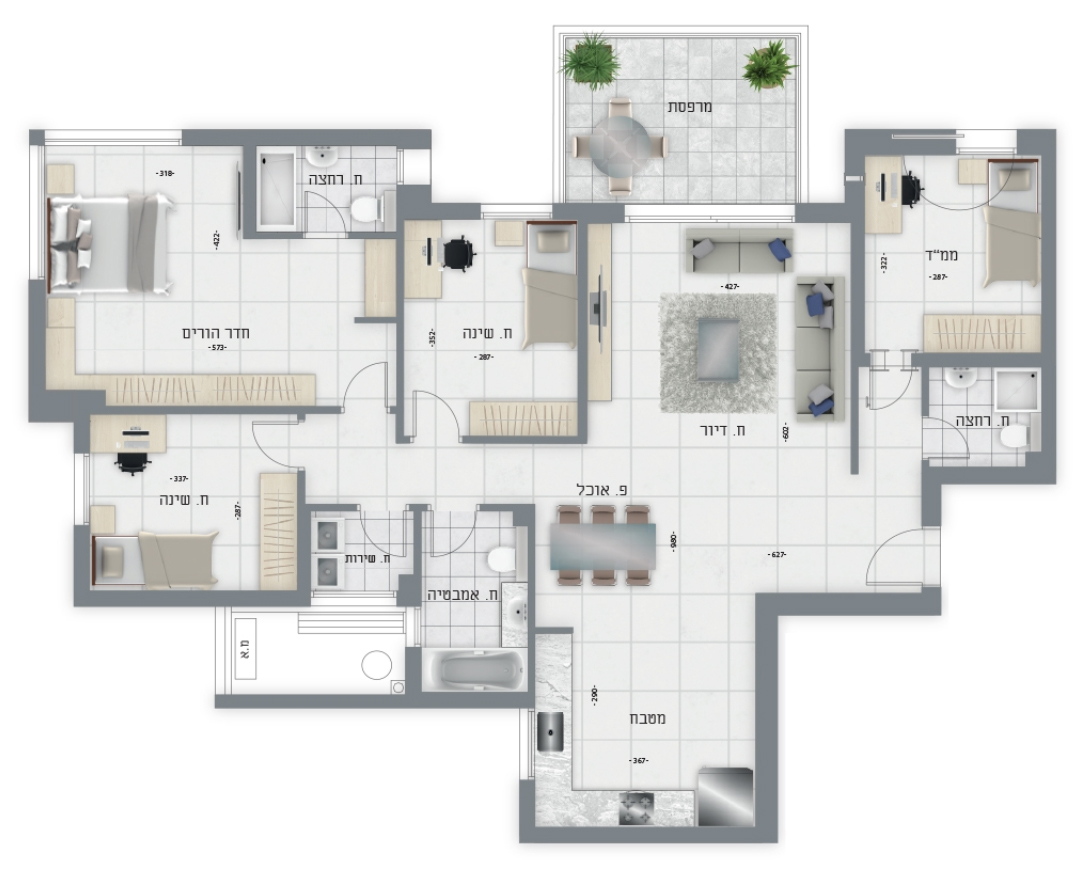door: (860, 527, 922, 589), (354, 513, 412, 562), (423, 515, 481, 564), (248, 417, 295, 474), (336, 359, 394, 405), (405, 387, 463, 433), (297, 186, 355, 232), (861, 370, 919, 416), (932, 415, 976, 466)
room: (28, 127, 253, 413), (849, 128, 1056, 366), (73, 406, 307, 605), (394, 203, 585, 446), (404, 503, 532, 709), (404, 505, 533, 709)
wall: (756, 594, 779, 842), (214, 693, 534, 710), (519, 827, 778, 843), (76, 590, 310, 607), (755, 594, 940, 615), (183, 130, 430, 145), (29, 280, 46, 419)
window: (624, 205, 795, 222), (43, 129, 181, 145), (29, 146, 43, 279), (956, 130, 1017, 155), (481, 203, 553, 221), (74, 452, 91, 527), (520, 707, 535, 780)
